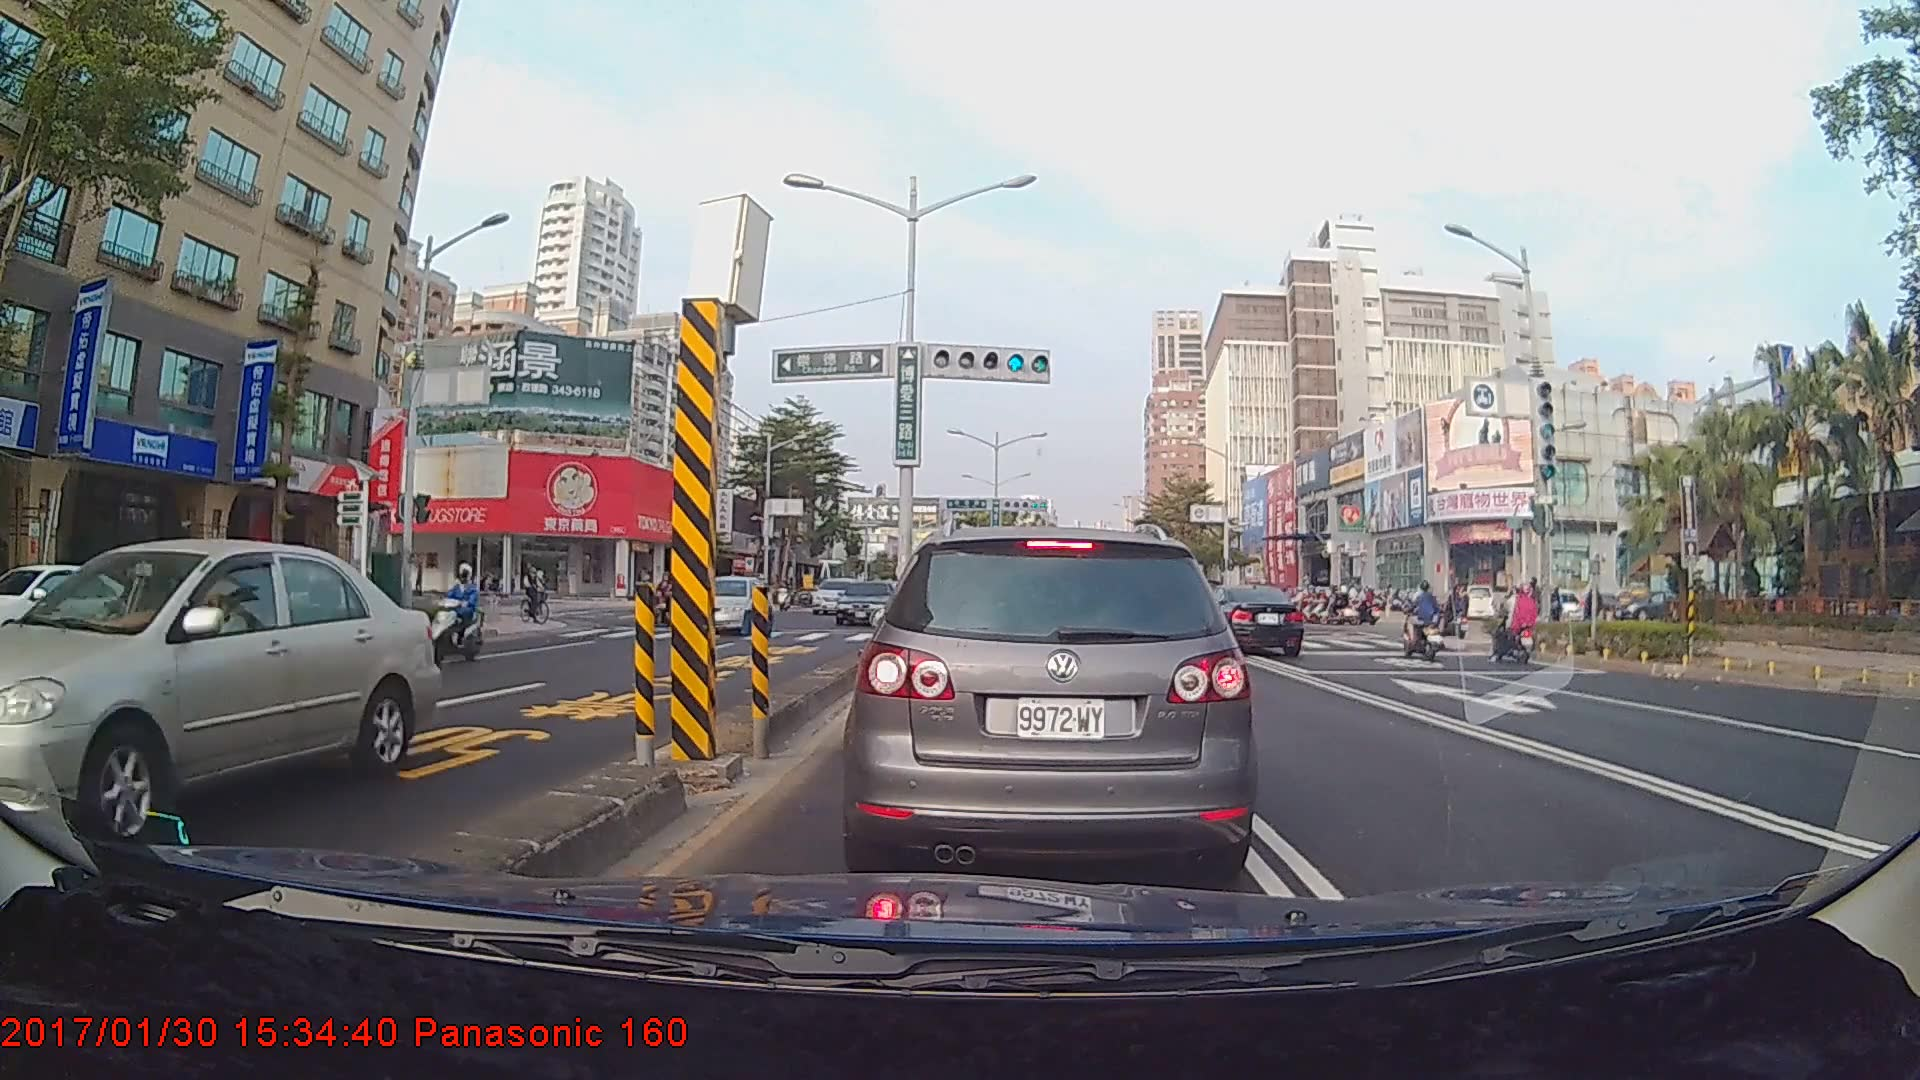rider: (427, 559, 493, 662), (1485, 582, 1548, 668), (1397, 580, 1453, 660), (518, 559, 561, 629), (1436, 582, 1473, 646)
vehicle: (854, 522, 1252, 876), (0, 537, 439, 850), (1186, 582, 1304, 658), (672, 574, 775, 635), (833, 577, 901, 626), (810, 576, 864, 615)
